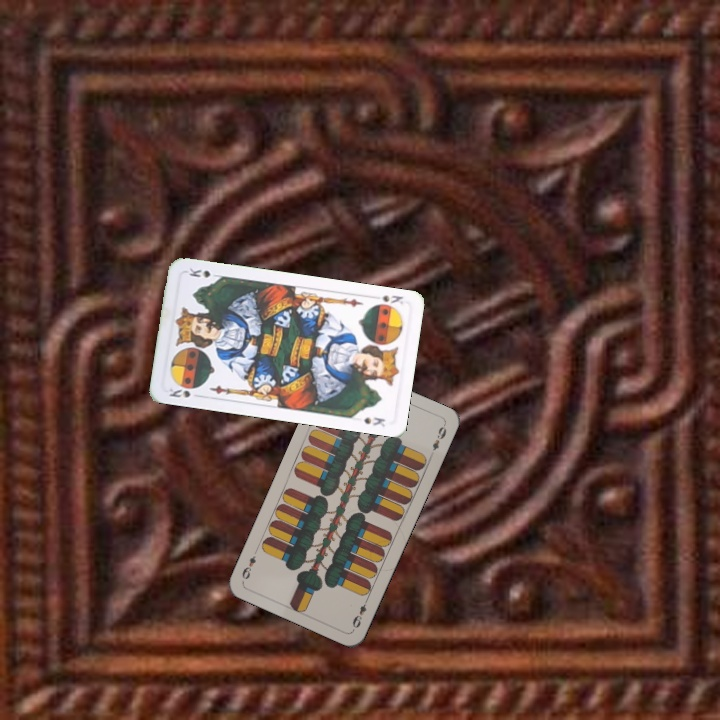E9: (348, 594, 371, 632)
SK: (370, 291, 406, 311), (164, 384, 193, 400)
